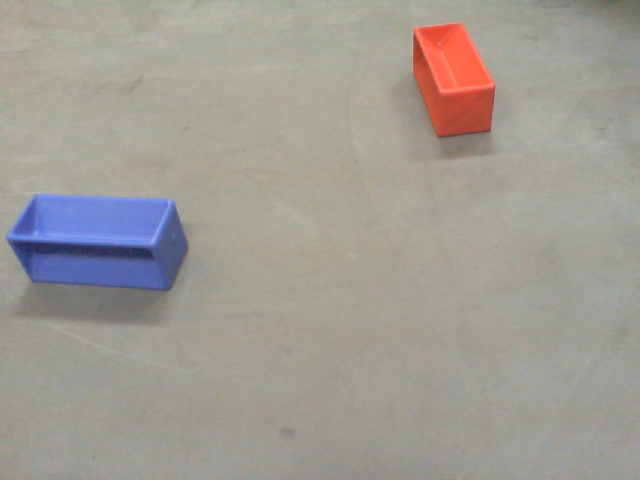BlueSample: (3, 194, 190, 290)
RedSample: (410, 20, 497, 140)
